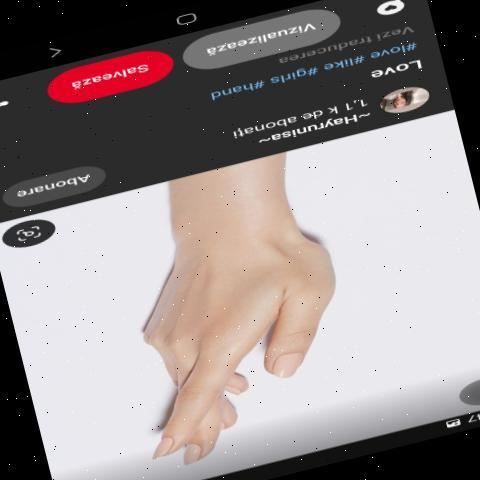Hands: (95, 206, 346, 464)
